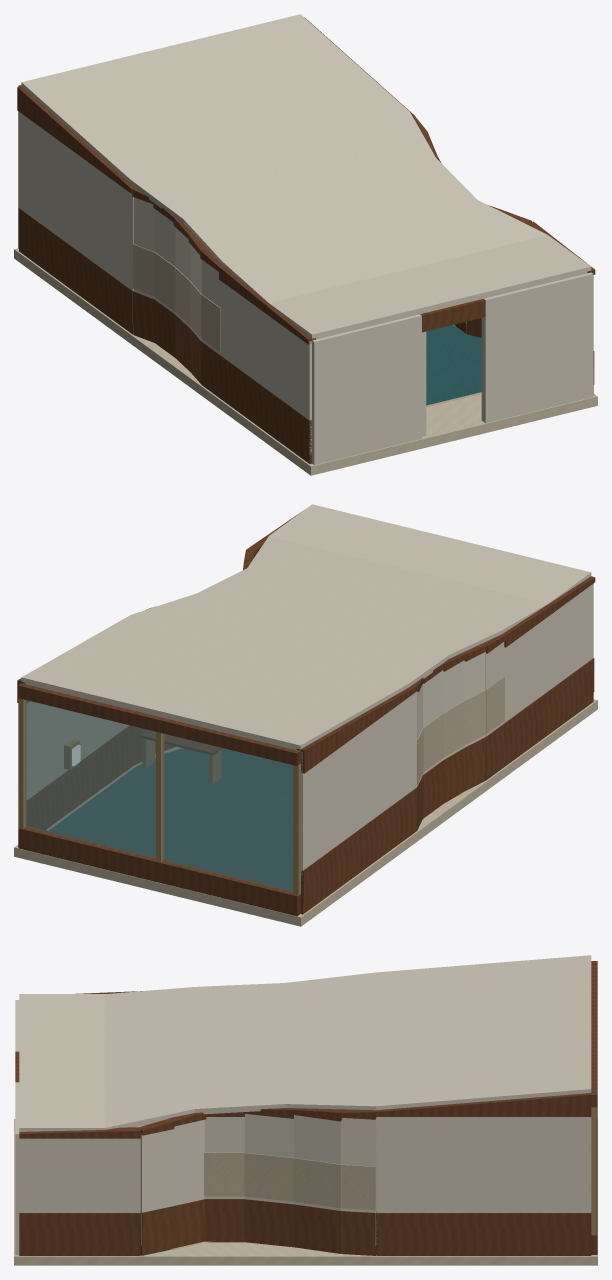
File: shell.glb
3 views of the same model, one above another, from view 1: azimuth 30°, elevation 25°; view 2: azimuth 150°, elevation 25°; view 3: azimuth 270°, elevation 25° (orthographic).
Parts seen in each view (by area): view 1: SUI_Runtime_ivory_enamel, SUI_Runtime_warm_walnut, SUI_Runtime_warm_stone, SUI_Runtime_oatmeal_weave, SUI_Runtime_teal_weave; view 2: SUI_Runtime_ivory_enamel, SUI_Runtime_warm_walnut, SUI_Runtime_SuiteHospitalityGlass, SUI_Runtime_teal_weave, SUI_Runtime_warm_stone, SUI_Runtime_oatmeal_weave, SUI_Runtime_champagne_metal; view 3: SUI_Runtime_ivory_enamel, SUI_Runtime_warm_walnut, SUI_Runtime_warm_stone, SUI_Runtime_oatmeal_weave, SUI_Runtime_champagne_metal.
Part boxes in pixels (x1,y1,x2,y2): SUI_Runtime_ivory_enamel: [19, 14, 593, 464]; SUI_Runtime_warm_walnut: [17, 17, 595, 463]; SUI_Runtime_warm_stone: [14, 248, 597, 475]; SUI_Runtime_oatmeal_weave: [133, 244, 481, 406]; SUI_Runtime_teal_weave: [426, 325, 481, 405]; SUI_Runtime_ivory_enamel: [21, 504, 593, 885]; SUI_Runtime_warm_walnut: [17, 511, 595, 916]; SUI_Runtime_SuiteHospitalityGlass: [25, 700, 293, 892]; SUI_Runtime_teal_weave: [49, 748, 292, 889]; SUI_Runtime_warm_stone: [14, 699, 597, 926]; SUI_Runtime_oatmeal_weave: [46, 676, 504, 830]; SUI_Runtime_champagne_metal: [18, 698, 300, 895]; SUI_Runtime_ivory_enamel: [15, 955, 591, 1254]; SUI_Runtime_warm_walnut: [15, 961, 597, 1255]; SUI_Runtime_warm_stone: [14, 1119, 597, 1265]; SUI_Runtime_oatmeal_weave: [170, 1152, 375, 1249]; SUI_Runtime_champagne_metal: [591, 1107, 596, 1235].
Bounding box in the file's own units: 7.2 × 4.26 × 12.9.
Materials: 8 (6 with a texture image).
